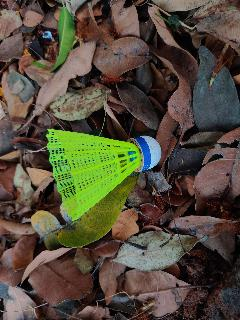shuttlecock: (46, 128, 162, 220)
